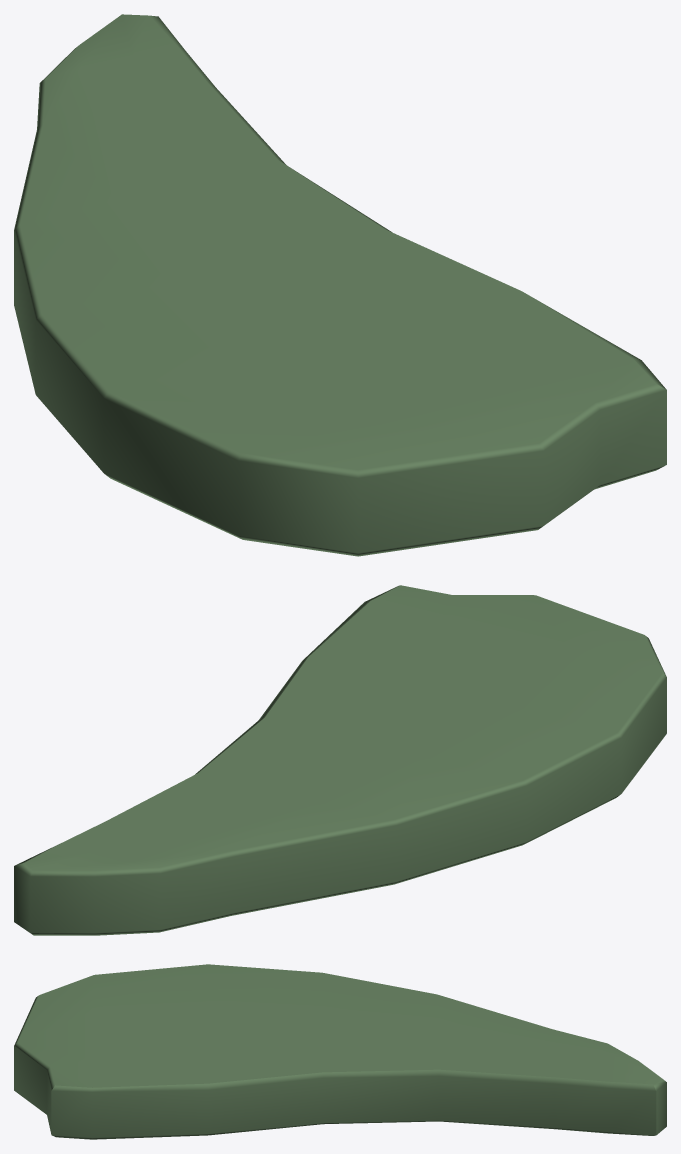
The model's file is Food_Steak_Half.fbx.
The picture shows the model from 3 angles, top to bottom: view 1: azimuth 30°, elevation 25°; view 2: azimuth 150°, elevation 25°; view 3: azimuth 270°, elevation 25°; orthographic projection. The views are drawn at different scales.
Visible parts, largest first — view 1: Steak_Half; view 2: Steak_Half; view 3: Steak_Half.
Part boxes in pixels (x1,y1,x2,y2): Steak_Half: (14,14,666,556); Steak_Half: (14,585,666,935); Steak_Half: (14,964,666,1139).
Size of the model in its own units: 23.79 by 4.51 by 51.51.
